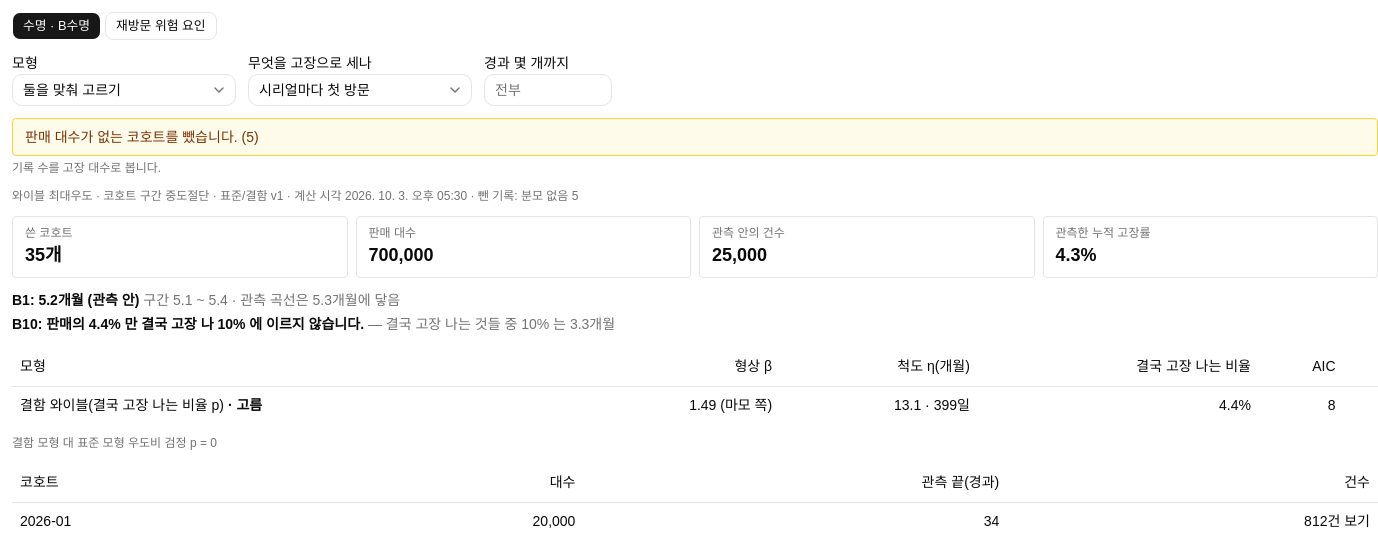
Test: 분석 탭 › 위험 요인은 기준 대비 오즈비, 모은 값과 불안정한 값은 그렇게 적는다
Click the button "재방문 위험 요인": (161, 26) [105,12,216,40]
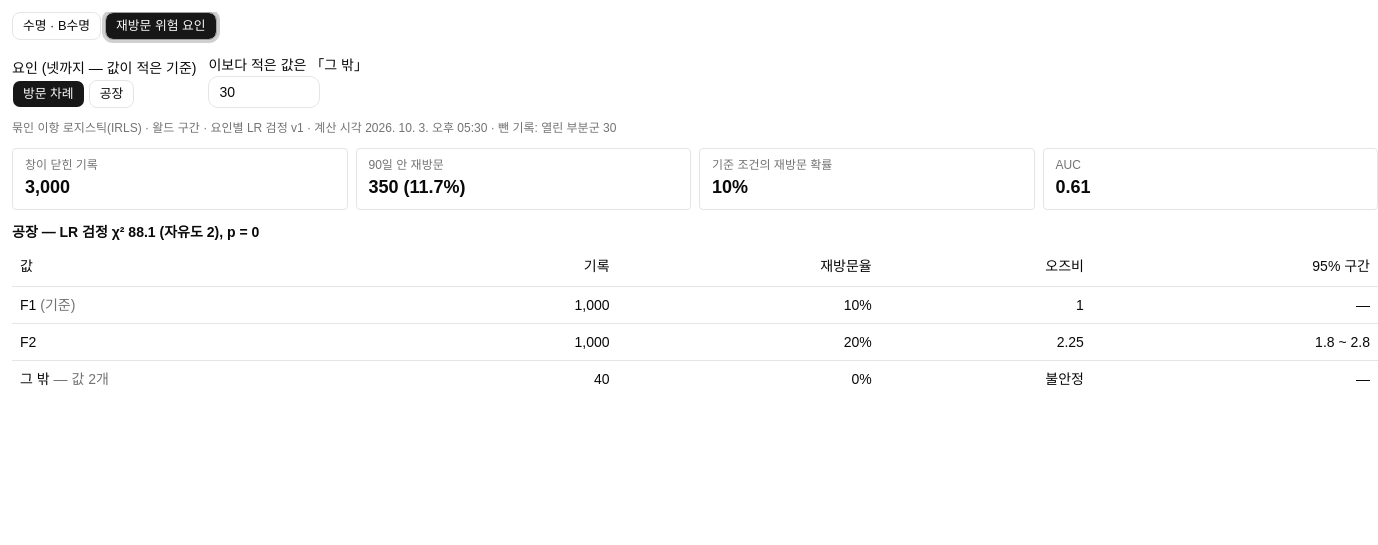
Expected: the text "2.25" is shown, [880,323,1092,360]
Expected: the text "(기준)" is shown, [36,296,75,312]
Expected: the text "불안정" is shown, [880,360,1092,396]
